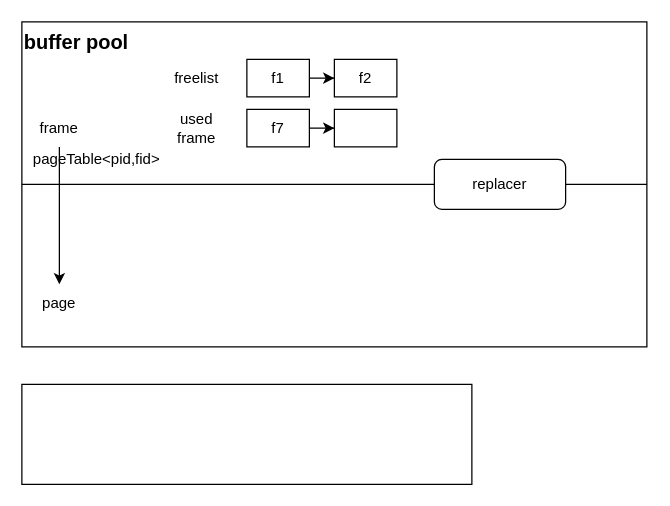
The diagram is 670 pixels wide and 506 high, and some of its shapes have lost their labels. Here are the shapes that lost their labels. From the top down, the centre of each, then its label:
At point (365, 127): "f8".
At point (246, 433): "Disk".
